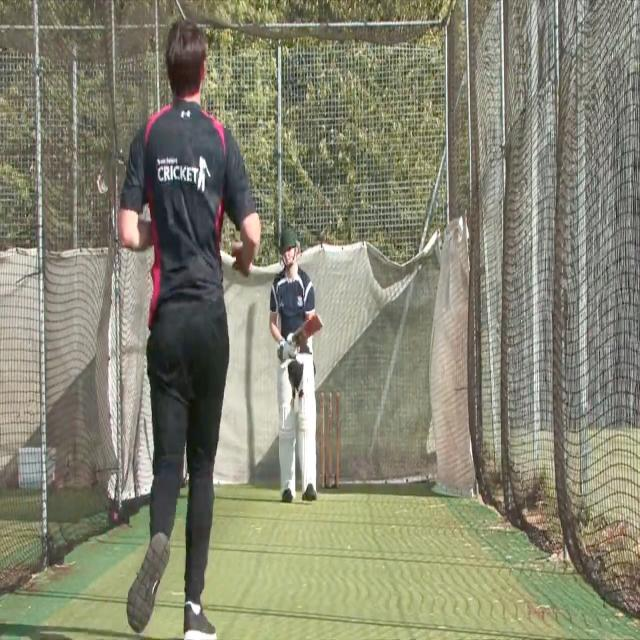batsman: (268, 228, 326, 506)
